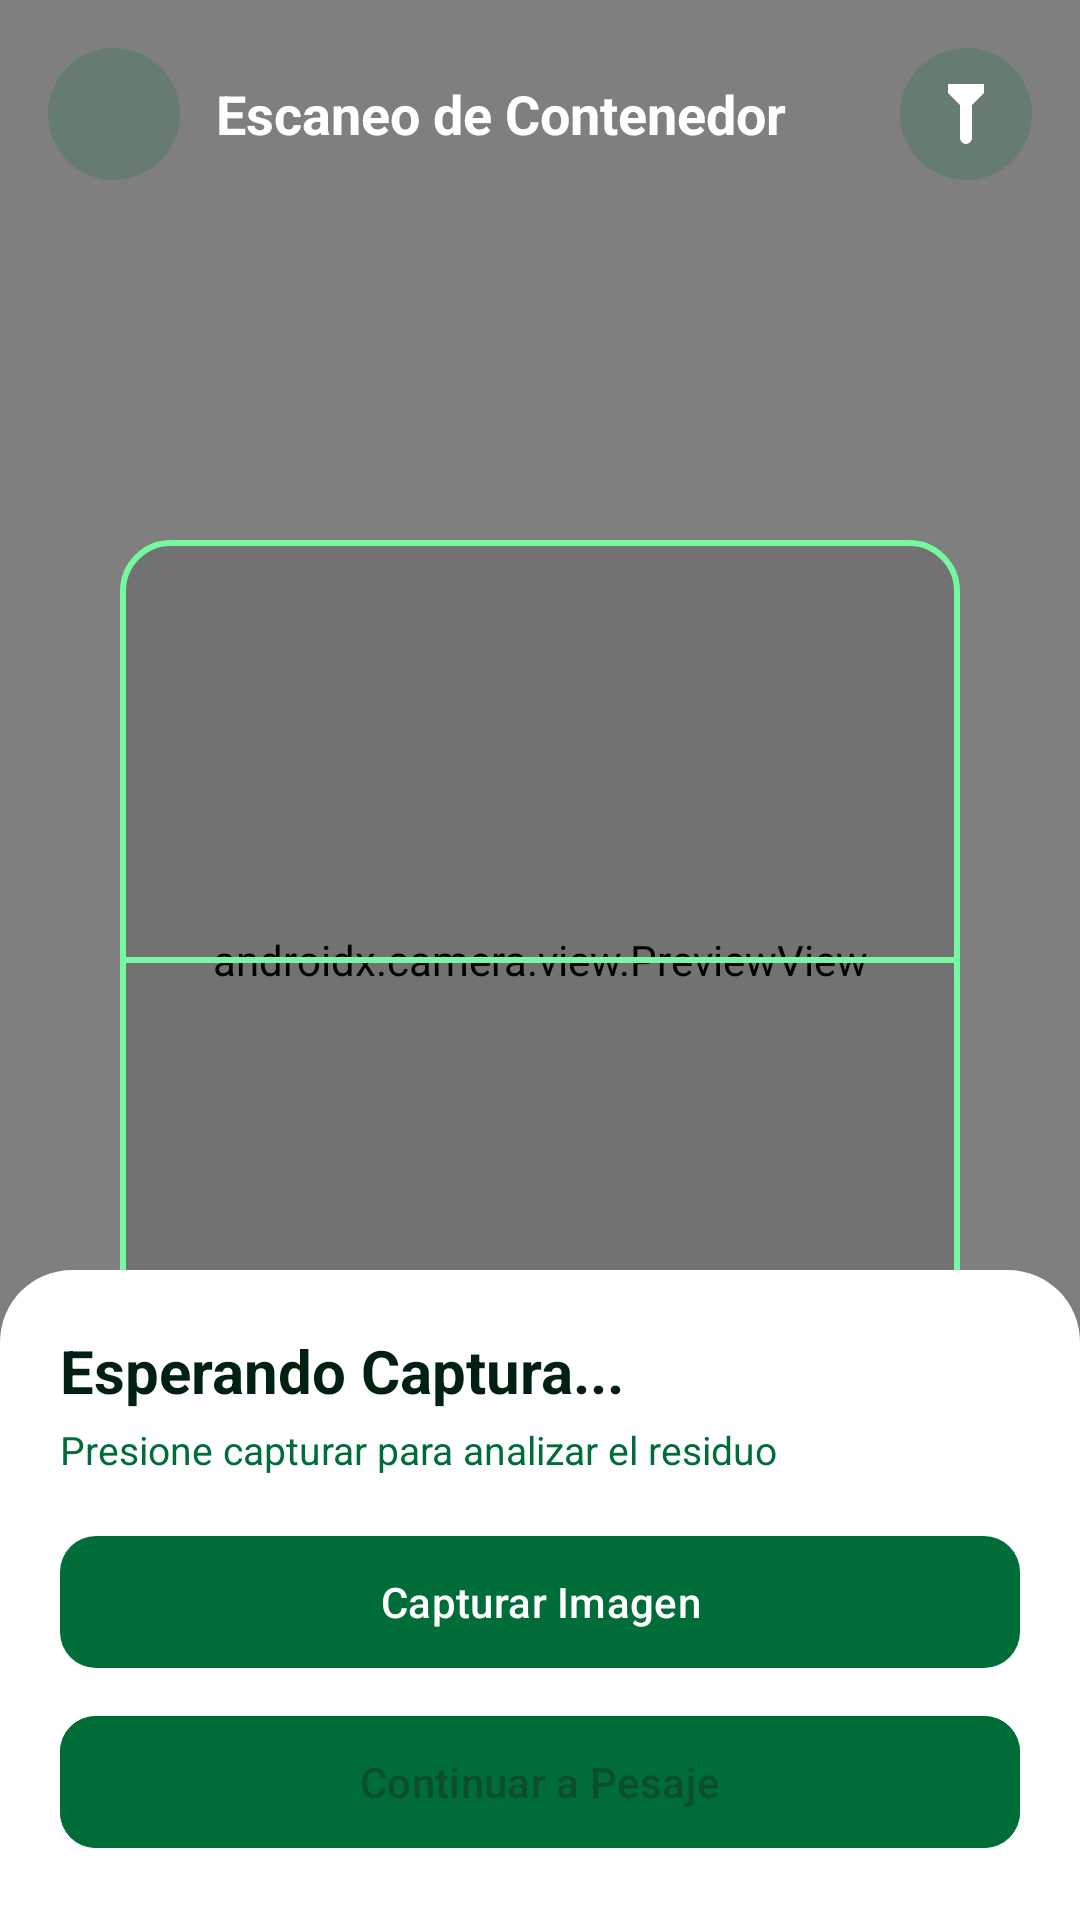

Icon click points for this 1080 × 1920 phone screenshot, format (x,y):
flashlight: (966,114)
